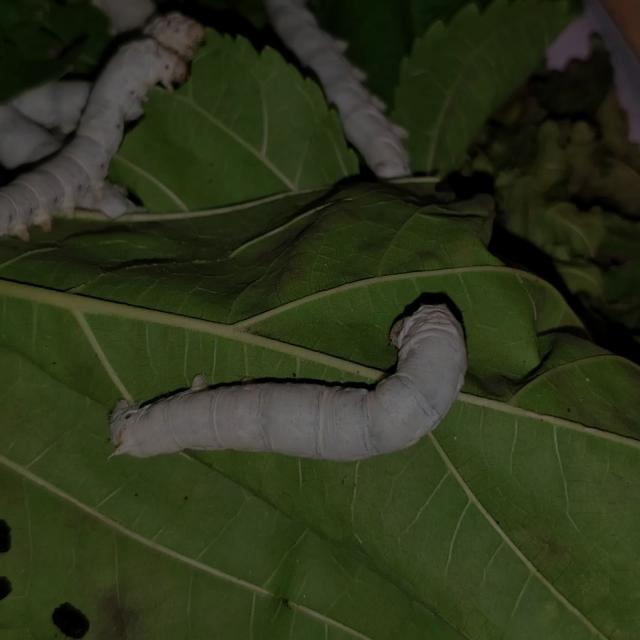Healthy: (98, 294, 474, 476)
